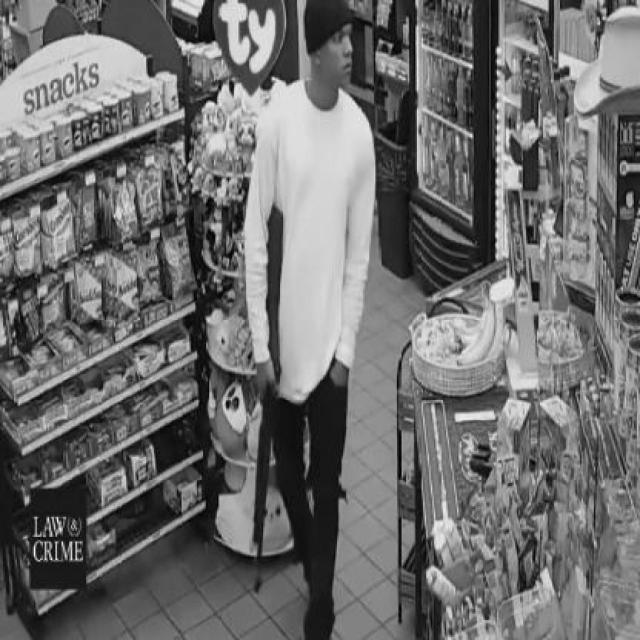weapon: (250, 206, 287, 596)
